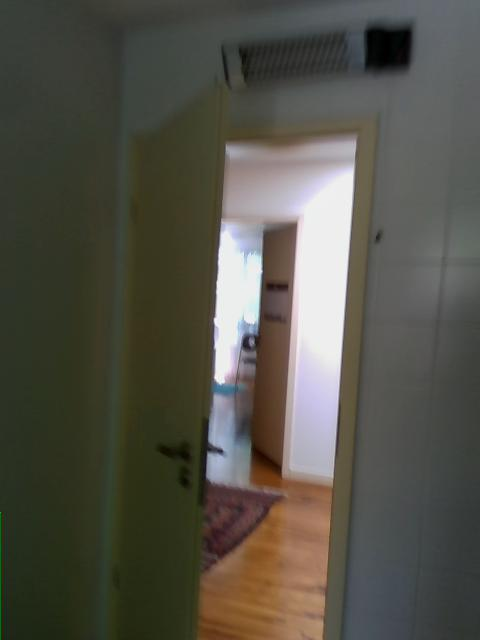semi_door: (107, 76, 378, 639)
